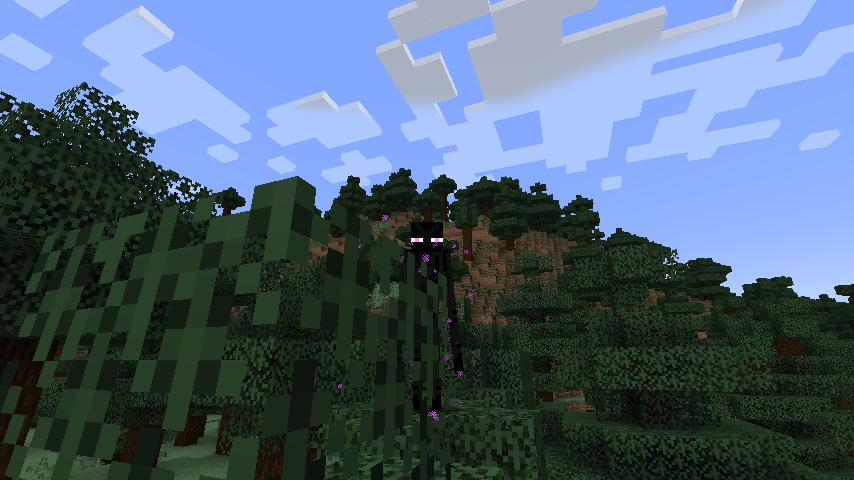enderman: (394, 217, 467, 414)
